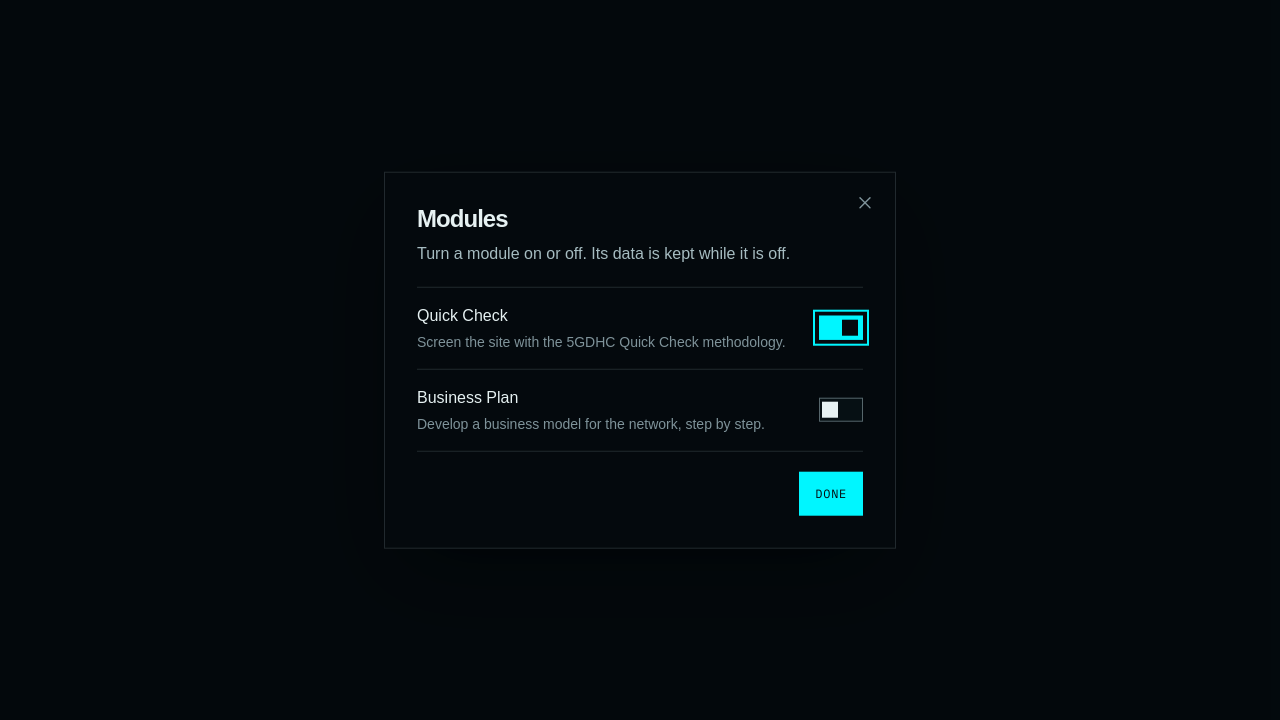
Scenario: ModulesDialog (D-01) › turns modules on and keeps at least one (en)
Expected: the 1st switch named "Quick Check" is checked, x1=819 y1=316 x2=863 y2=340
Click the switch named "Business Plan" in the row of "Business Plan" at (841, 410), box x1=819 y1=398 x2=863 y2=422
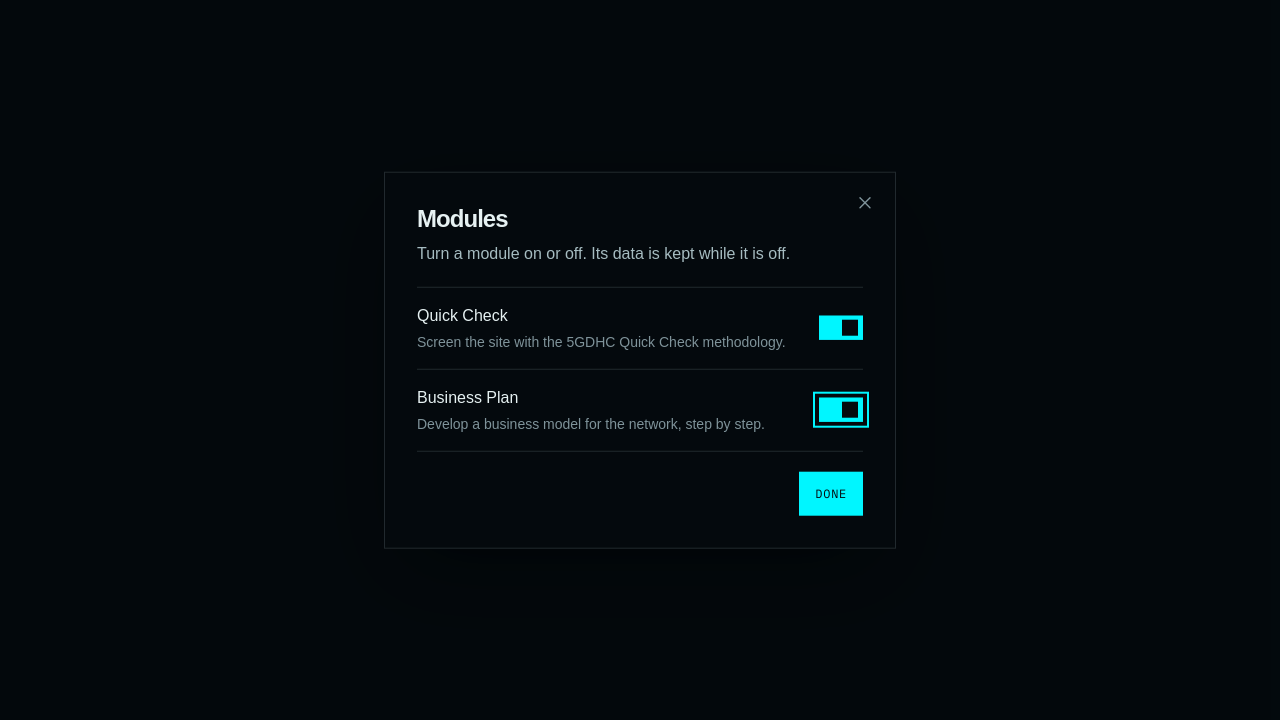
Click the 1st switch named "Quick Check" at (841, 328), box x1=819 y1=316 x2=863 y2=340
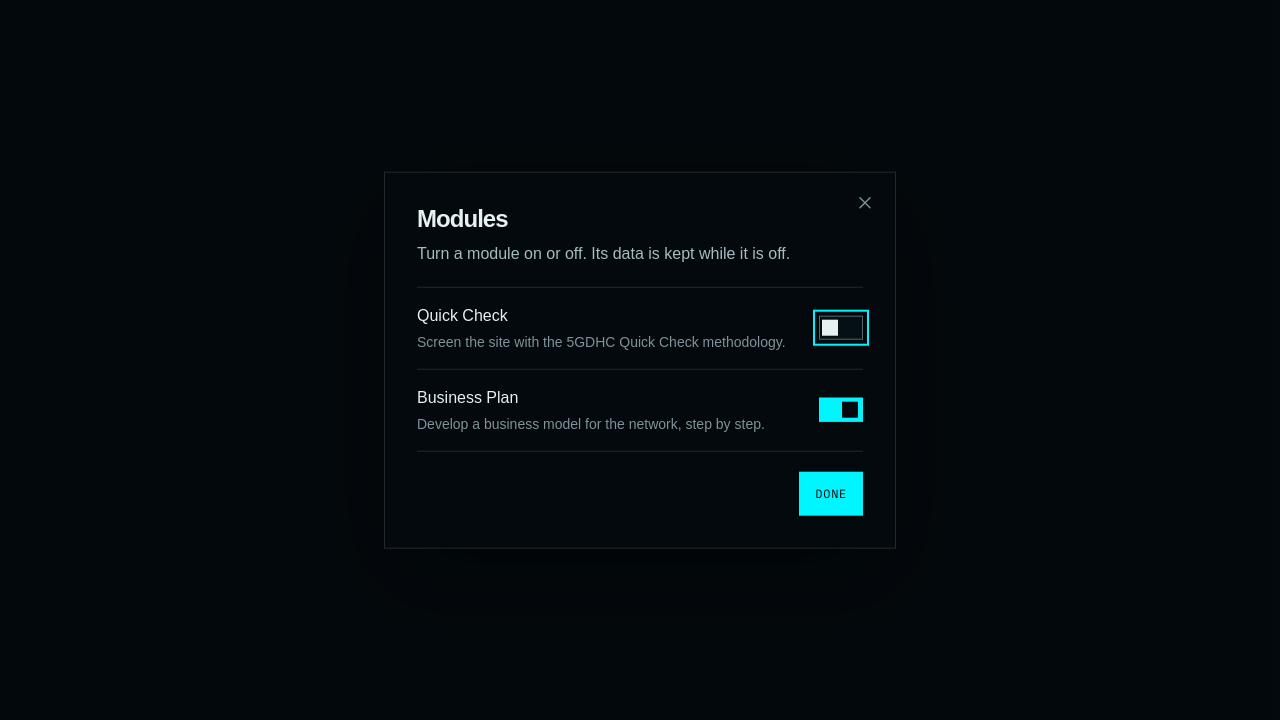
Click the switch named "Business Plan" in the row of "Business Plan" at (841, 410), box x1=819 y1=398 x2=863 y2=422
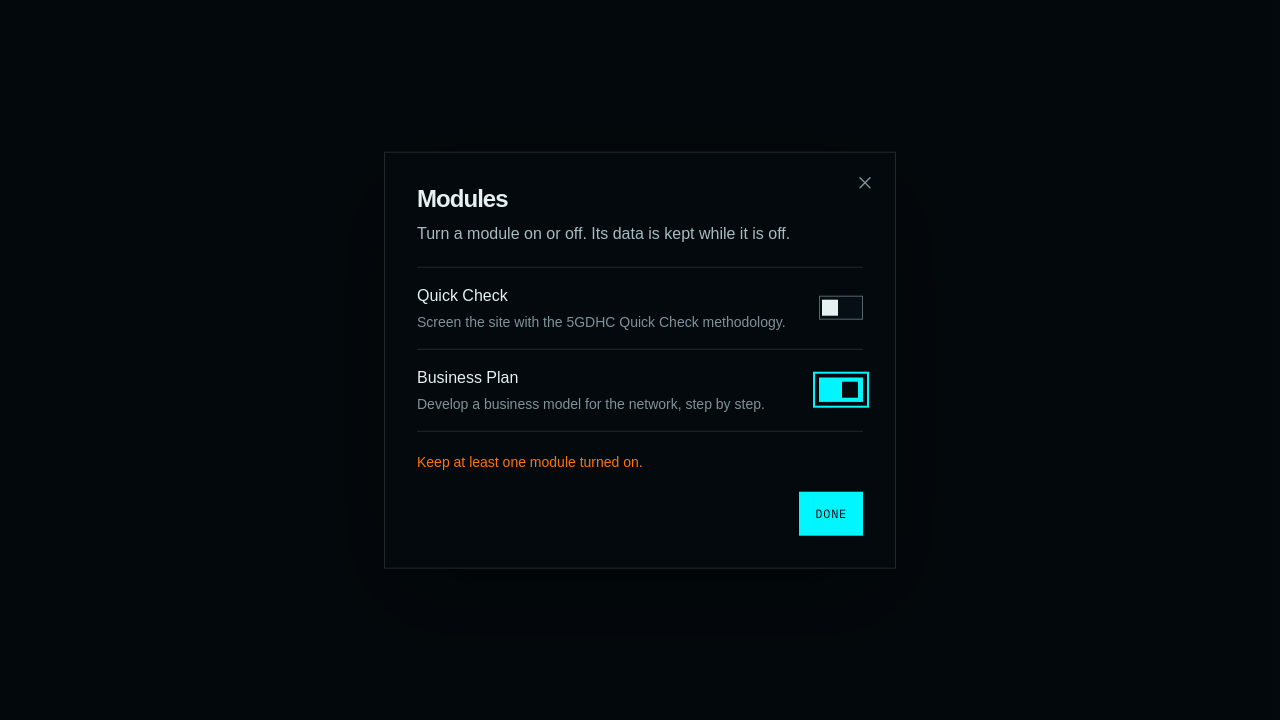
Expected: the message reads "Keep at least one module turned on.", x1=417 y1=453 x2=643 y2=469
